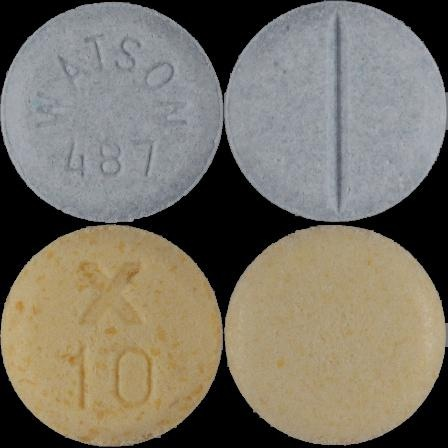16590-278: (0, 0, 224, 224)
